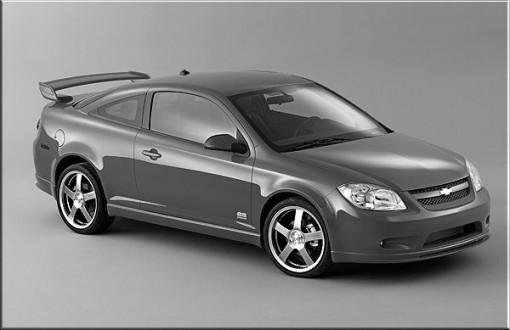car: (29, 68, 494, 279)
